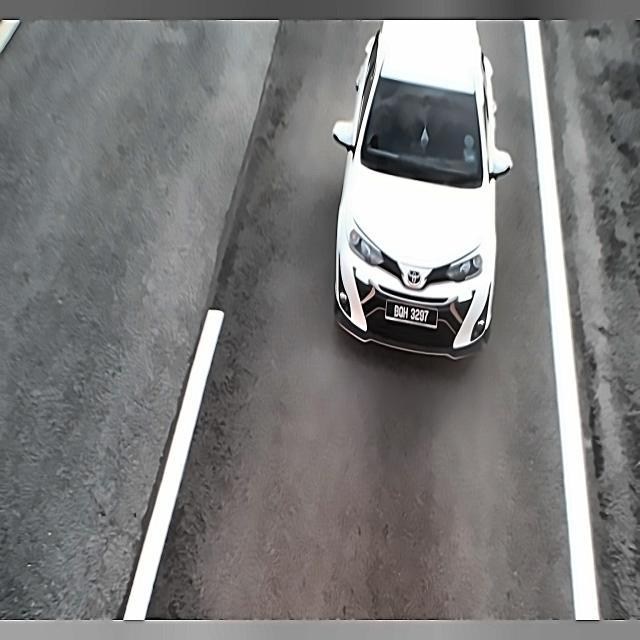car: (382, 297, 440, 334)
